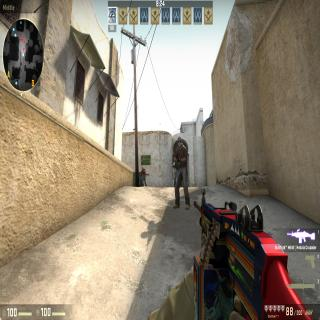T-Body: (173, 136, 188, 210), (140, 166, 146, 187)
T-Head: (176, 136, 183, 148), (142, 167, 144, 170)
